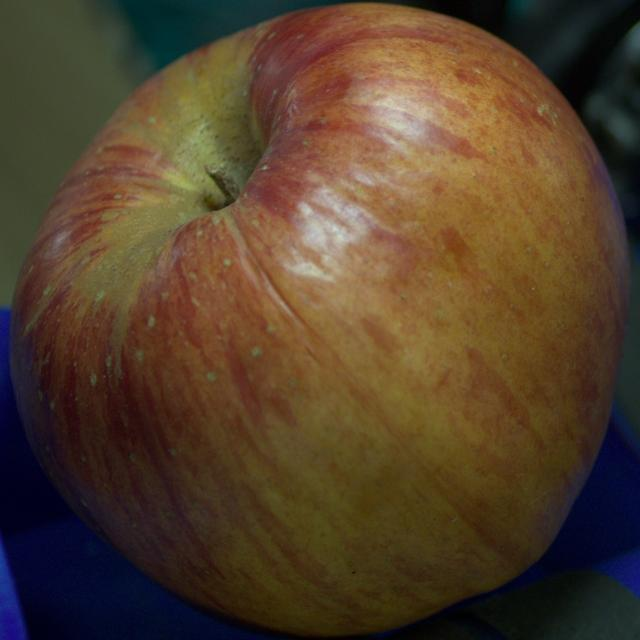apple: (10, 4, 629, 636)
bruise: (285, 59, 356, 117)
